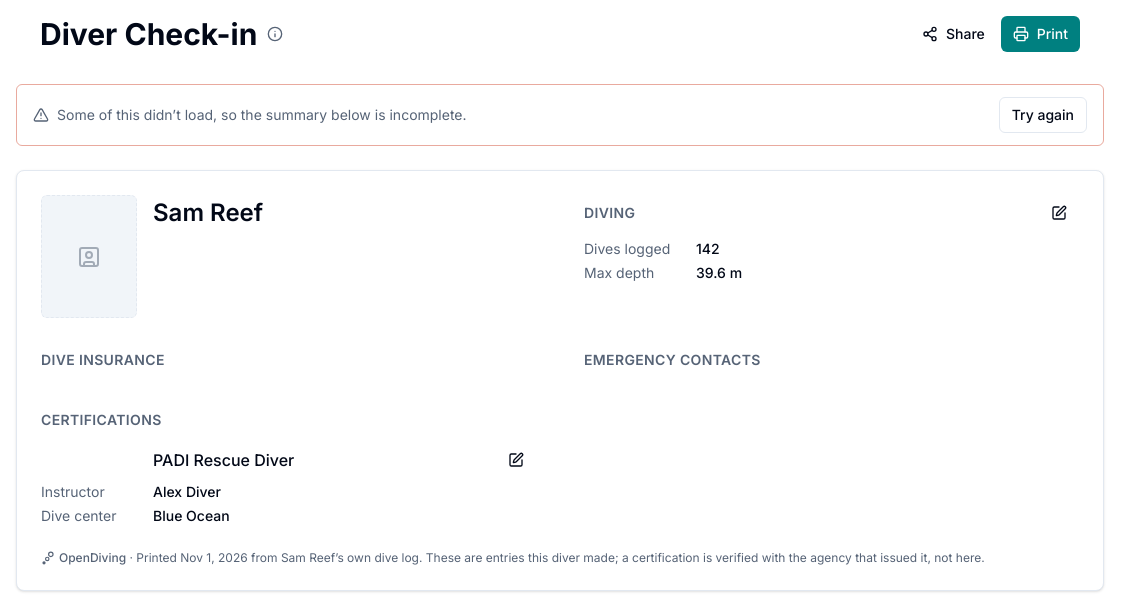
CheckInPage › says the summary is short when the check-in details fail, and reads them again
Expected: the text "PADI Rescue Diver" is shown, [153,450,294,470]
Expected: the text "Not filled in yet." is not shown
Click the button "Try again". click: (1043, 115)
box: [999,97,1087,133]
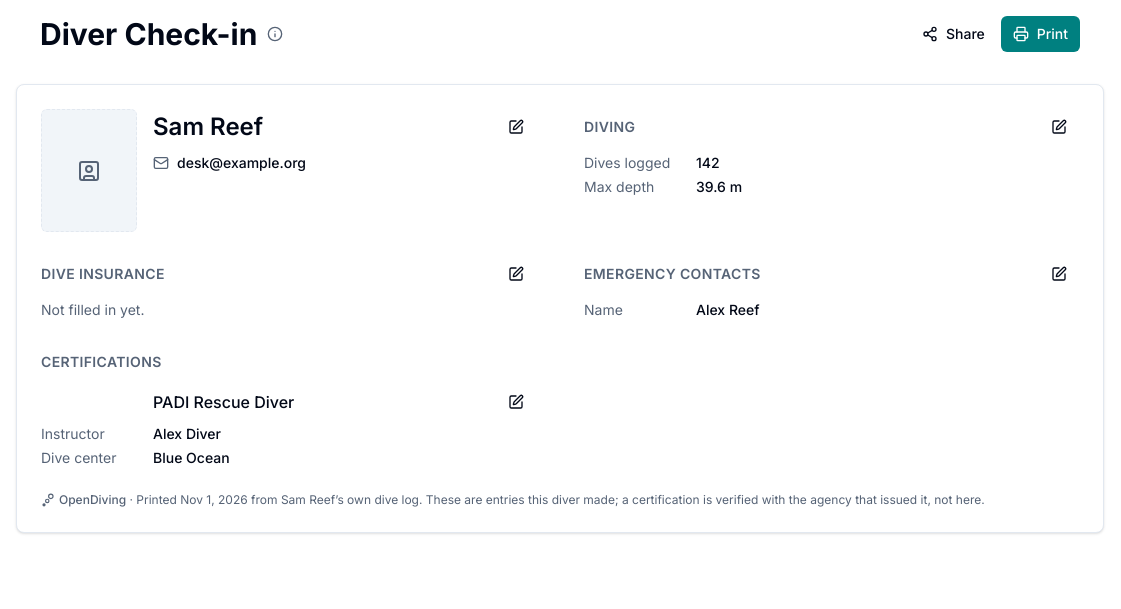
Expected: the text "desk@example.org" is shown, [177,153,306,173]
